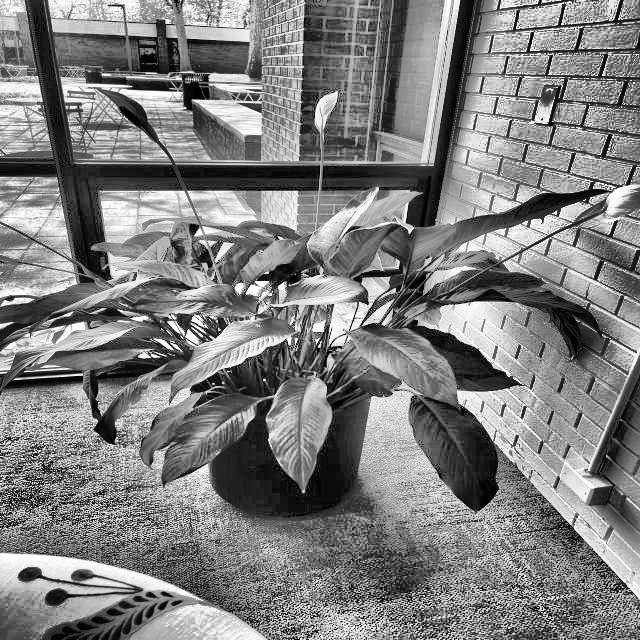plants: (78, 205, 560, 536)
